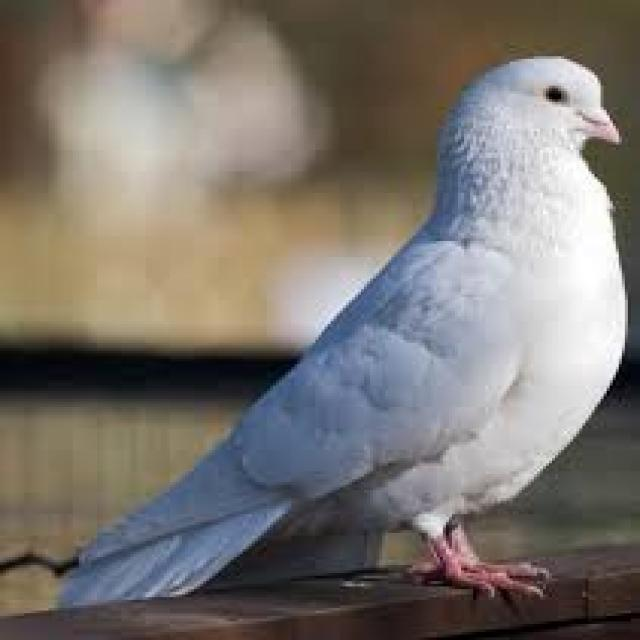pigeon: (58, 42, 640, 632)
